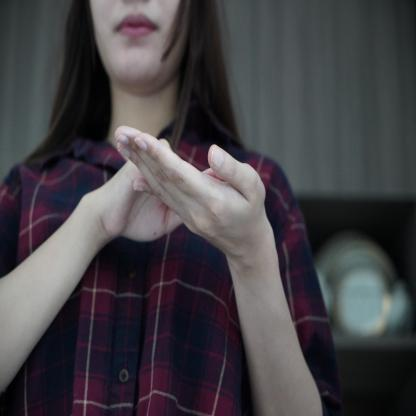Love: (54, 108, 292, 321)
